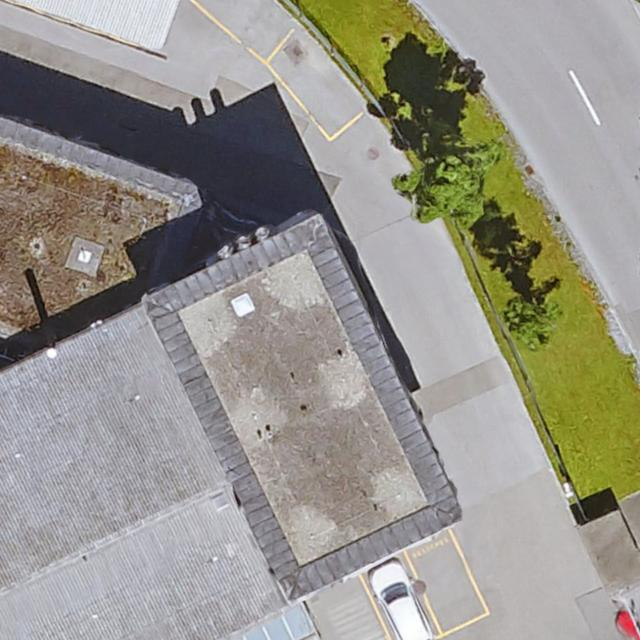tree: (396, 128, 495, 222), (507, 296, 565, 347)
